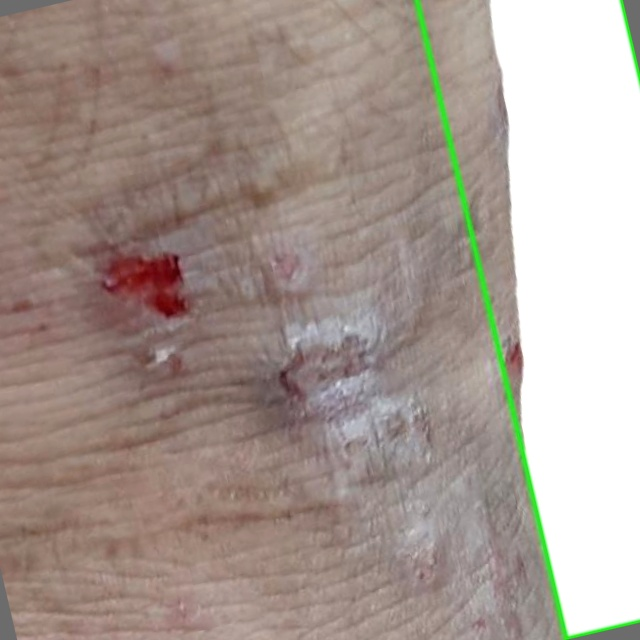Eczema: (417, 0, 639, 638)
